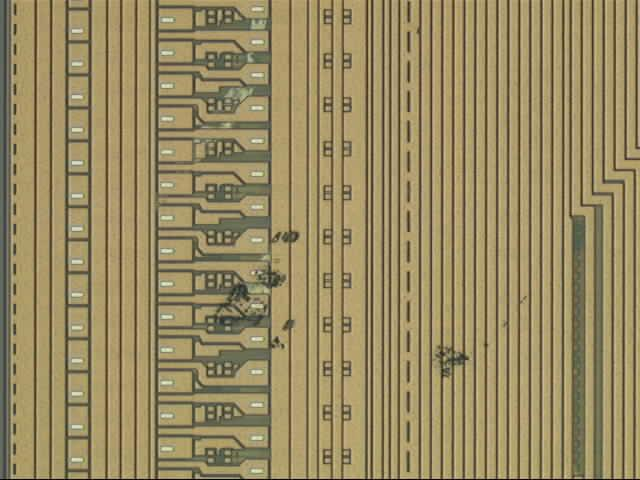SCRATCH: (214, 229, 534, 382)
